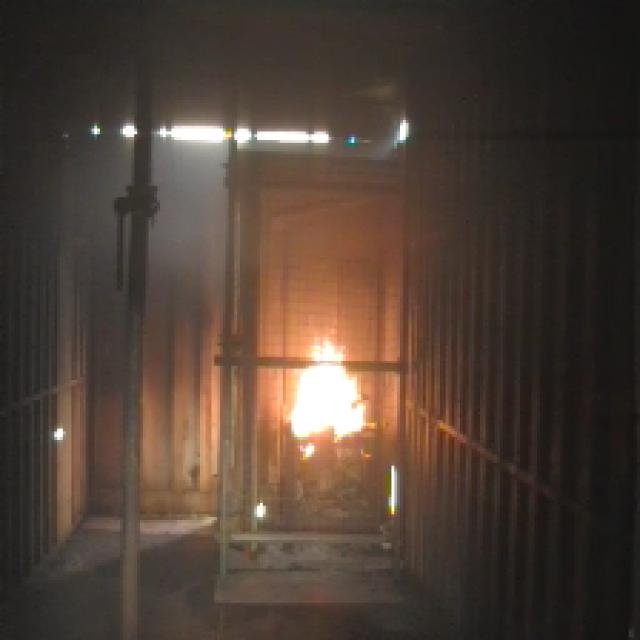fire: (294, 328, 376, 439)
